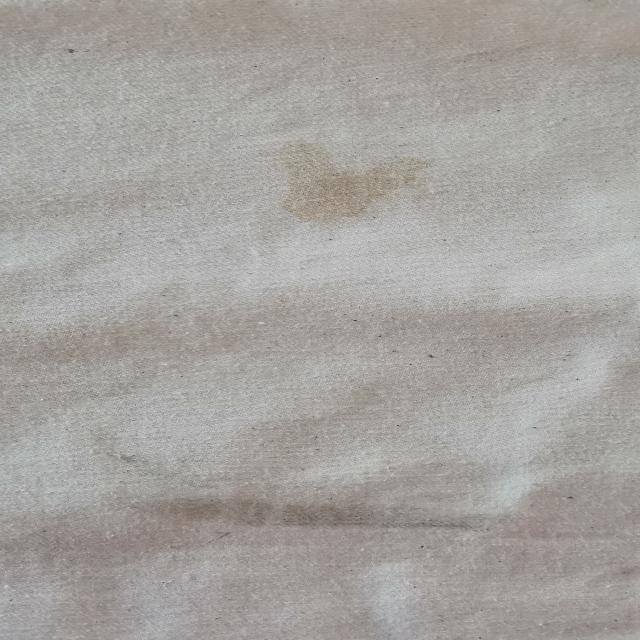taaaches: (82, 488, 547, 546), (253, 126, 451, 250), (68, 426, 171, 474)
